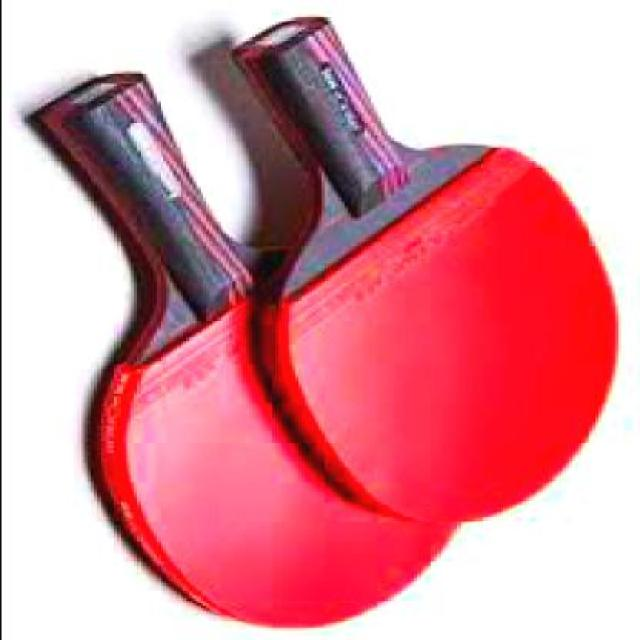table_tennis_racket: (86, 243, 468, 631), (267, 140, 618, 528)
